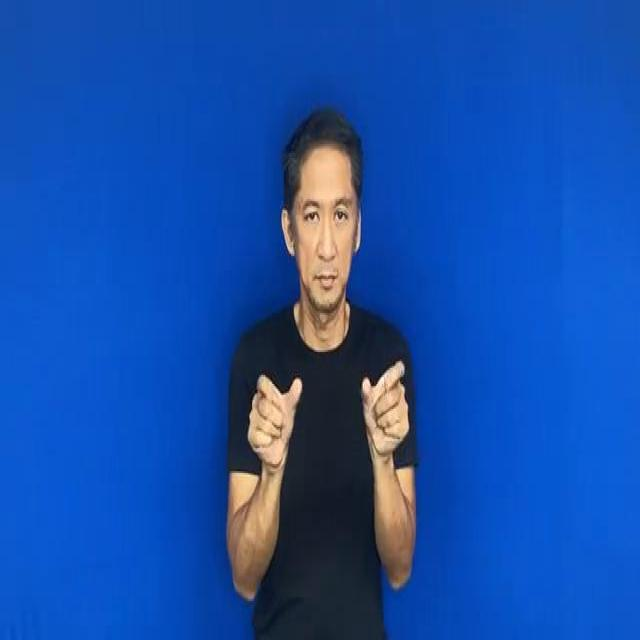crab: (344, 354, 416, 470), (245, 352, 315, 466)
